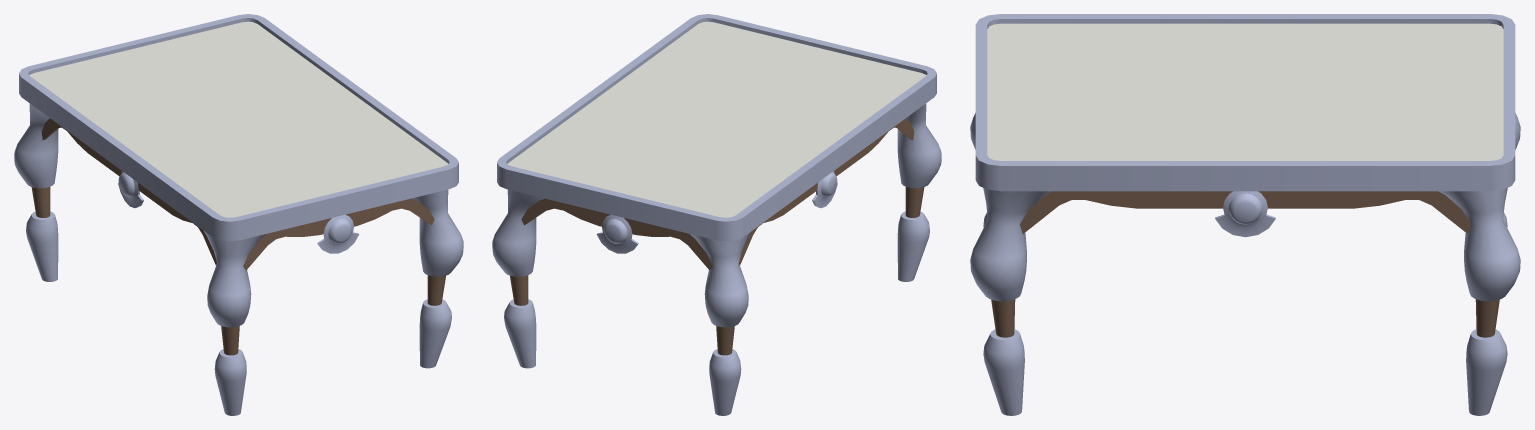
The model's file is SM_Blockout_Table_Low_01.fbx.
The picture shows the model from 3 angles, left to right: view 1: azimuth 30°, elevation 25°; view 2: azimuth 150°, elevation 25°; view 3: azimuth 270°, elevation 25°; orthographic projection. The views are drawn at different scales.
Parts seen in each view (by area): view 1: Table_Low_1; view 2: Table_Low_1; view 3: Table_Low_1.
Part boxes in pixels (box(x1,y1,x2,y2)): Table_Low_1: box(14, 14, 463, 415); Table_Low_1: box(492, 14, 941, 415); Table_Low_1: box(970, 14, 1520, 415).
Bounding box in the file's own units: 103 × 80 × 153.
